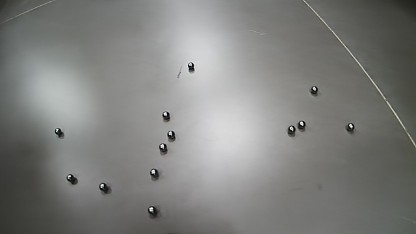ironball: (99, 182, 108, 191), (148, 206, 157, 215), (167, 130, 175, 139), (297, 120, 305, 129), (159, 143, 167, 152), (287, 125, 295, 134), (150, 168, 158, 177), (66, 174, 75, 182), (310, 86, 318, 94), (347, 122, 354, 131), (162, 111, 169, 119), (54, 128, 62, 135), (187, 62, 194, 69)
